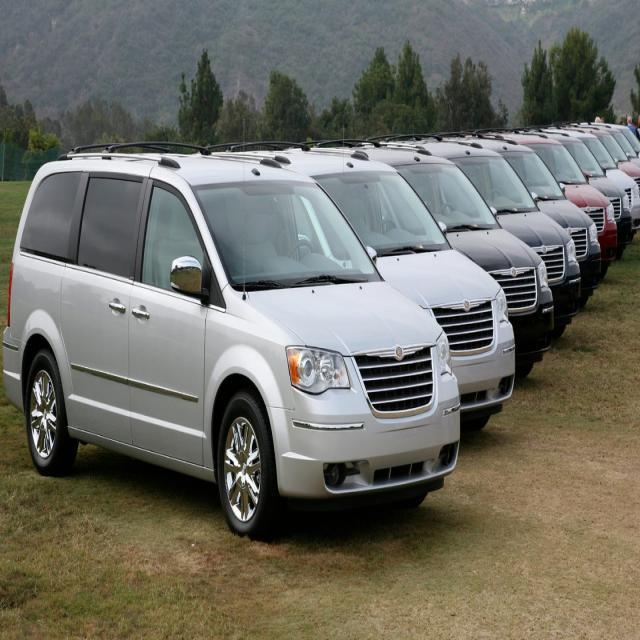minivan: (2, 140, 462, 539)
